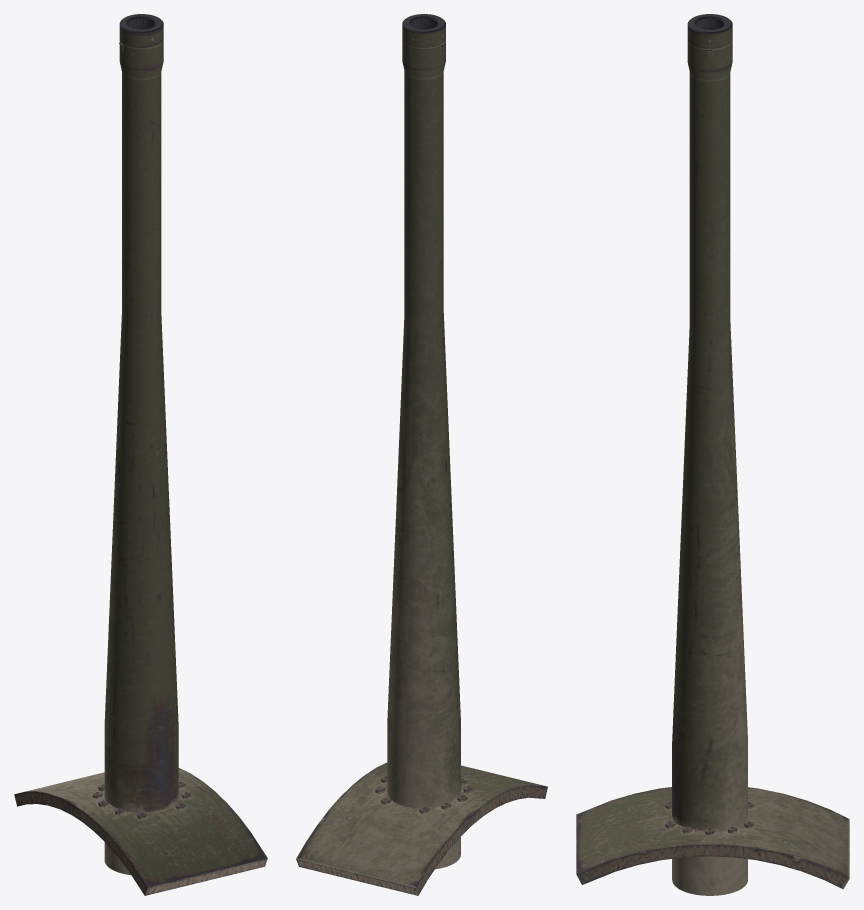
File: Gun_01.glb
The picture shows the model from 3 angles, left to right: view 1: azimuth 30°, elevation 25°; view 2: azimuth 150°, elevation 25°; view 3: azimuth 270°, elevation 25°; orthographic projection. The views are drawn at different scales.
Parts seen in each view (by area): view 1: set_0_group_0; view 2: set_0_group_0; view 3: set_0_group_0.
Part boxes in pixels (x1,y1,x2,y2): set_0_group_0: (14,14,267,895); set_0_group_0: (296,14,547,895); set_0_group_0: (576,14,849,895).
Size of the model in its own units: 0.6508 by 4.33 by 1.25.
1 material, 1 textured.
